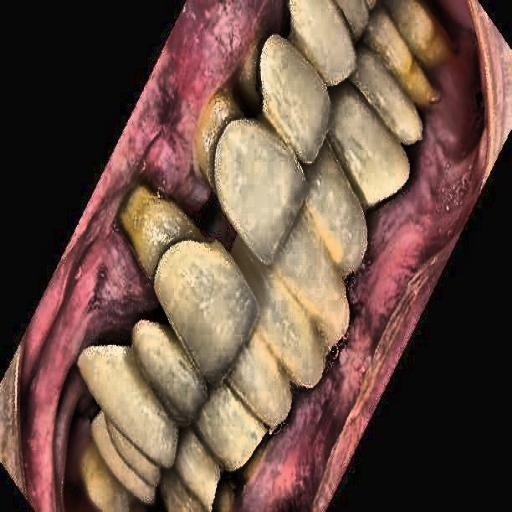Calculus: (110, 162, 230, 329), (195, 36, 305, 204), (176, 417, 304, 512), (397, 16, 466, 126)
